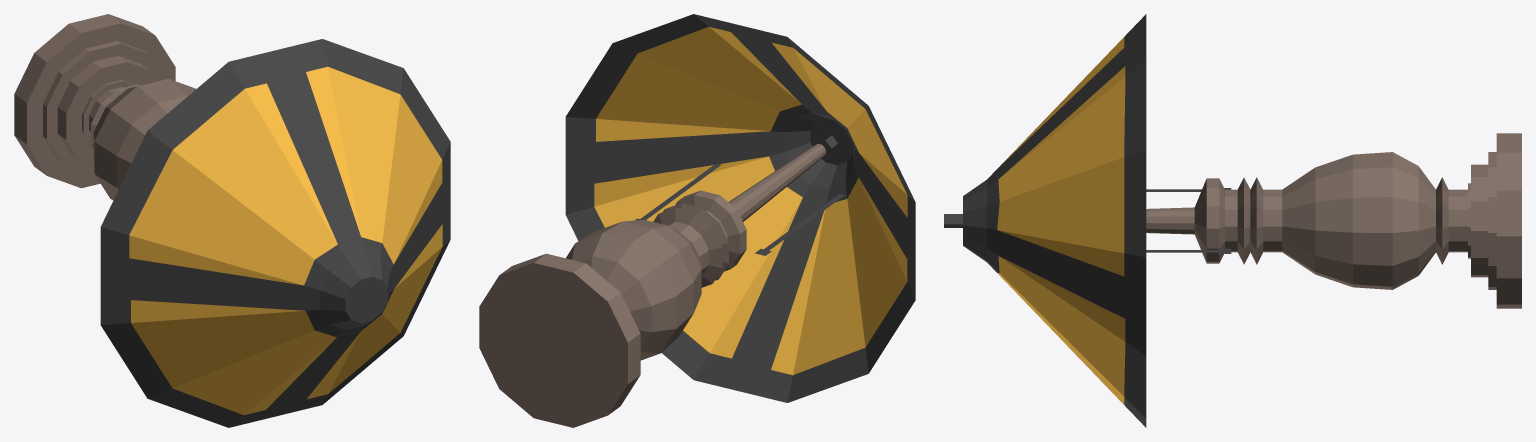
3 renders of one model, left to right at view 1: azimuth 30°, elevation 25°; view 2: azimuth 150°, elevation 25°; view 3: azimuth 270°, elevation 25°, orthographic.
Visible parts, largest first — view 1: desk lamp stained glass round; view 2: desk lamp stained glass round; view 3: desk lamp stained glass round.
Boxes of the visible parts, <box> form: desk lamp stained glass round: <box>14,14,450,427</box>; desk lamp stained glass round: <box>479,14,915,427</box>; desk lamp stained glass round: <box>944,14,1521,427</box>.
Bounding box in the file's own units: 15.94 × 15.94 × 22.68.
